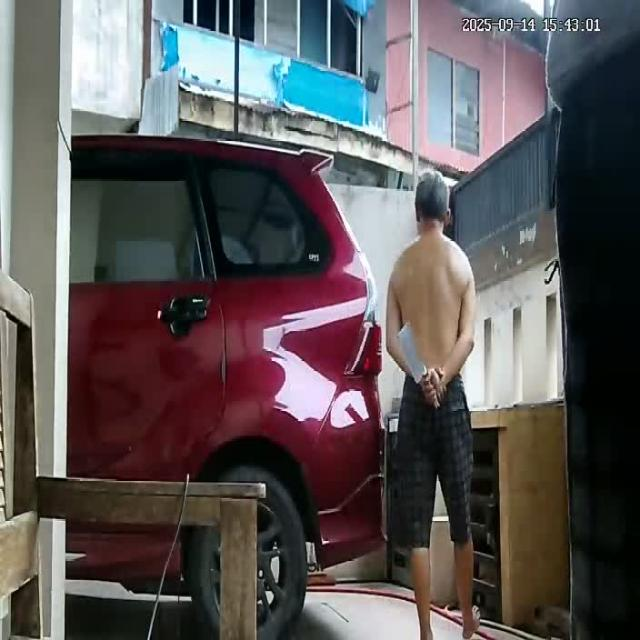senjata_tajam: (395, 318, 430, 385)
